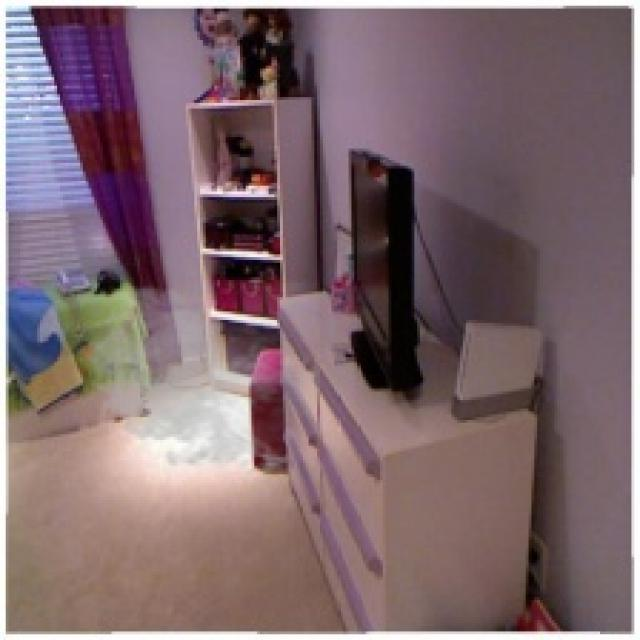Smoke: (68, 280, 320, 480)
